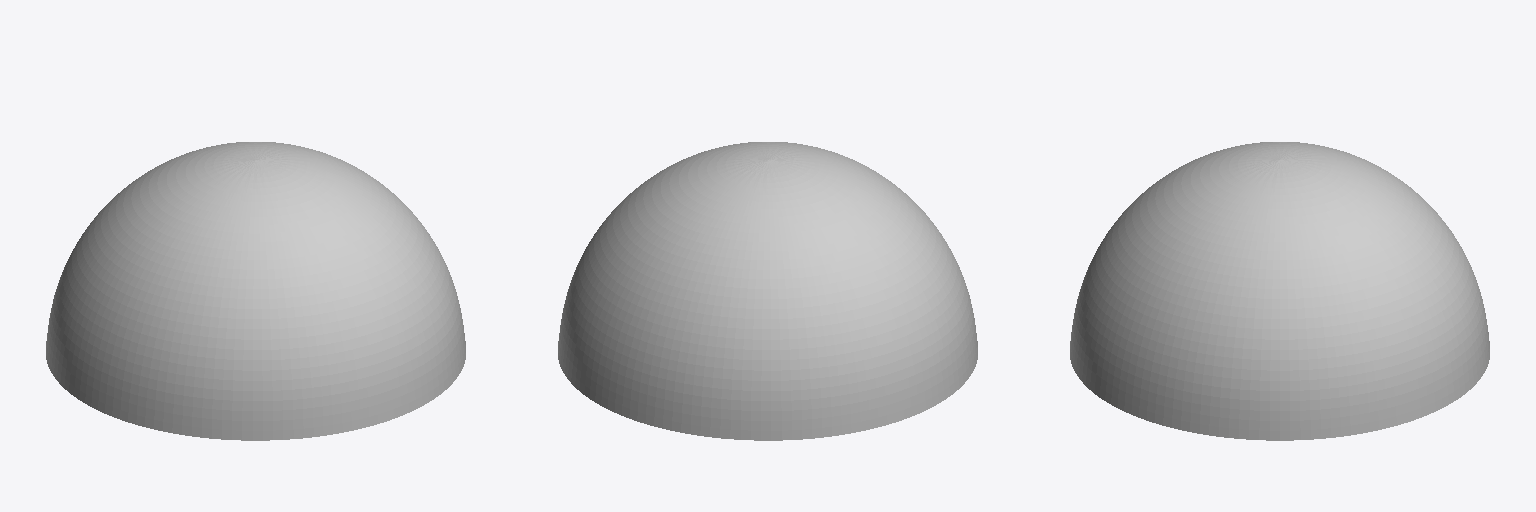
The model's file is NightSky.obj.
3 renders of one model, left to right at view 1: azimuth 30°, elevation 25°; view 2: azimuth 150°, elevation 25°; view 3: azimuth 270°, elevation 25°, orthographic.
Parts seen in each view (by area): view 1: SkyDome_Sphere; view 2: SkyDome_Sphere; view 3: SkyDome_Sphere.
Boxes of the visible parts, x1=… form: SkyDome_Sphere: x1=46, y1=142, x2=465, y2=440; SkyDome_Sphere: x1=558, y1=142, x2=977, y2=440; SkyDome_Sphere: x1=1070, y1=142, x2=1489, y2=440.
Bounding box in the file's own units: 994 × 499 × 994.